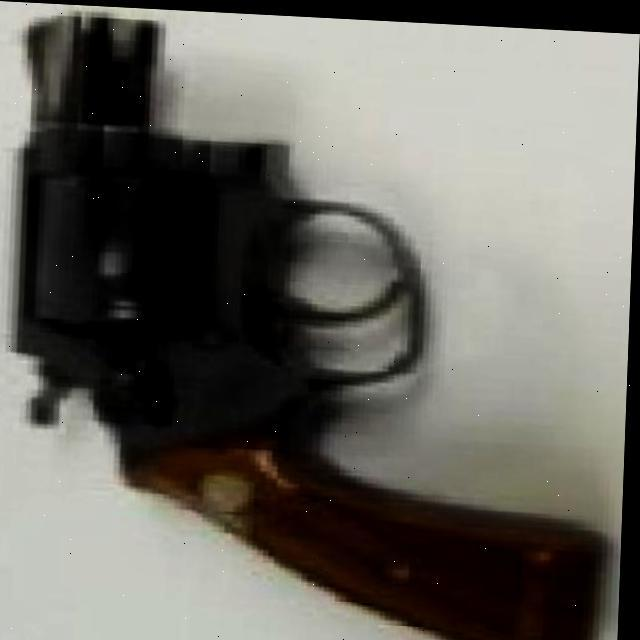gun: (1, 11, 614, 640)
